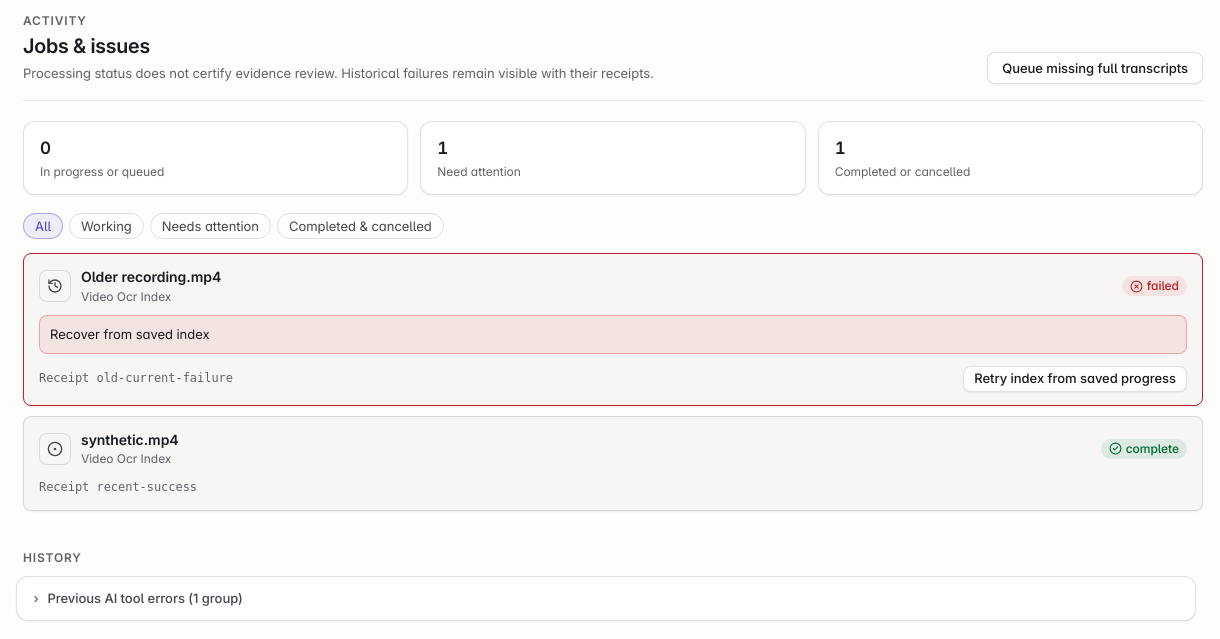
Test: shows a current older failure immediately beside recent completed jobs
Expected: the text "Older recording.mp4" is shown, [81,268,221,285]
Expected: the text "Recover from saved index" is shown, [39,315,1187,354]
Click the button "Completed & cancelled".
click(360, 226)  # box [277,213,444,239]
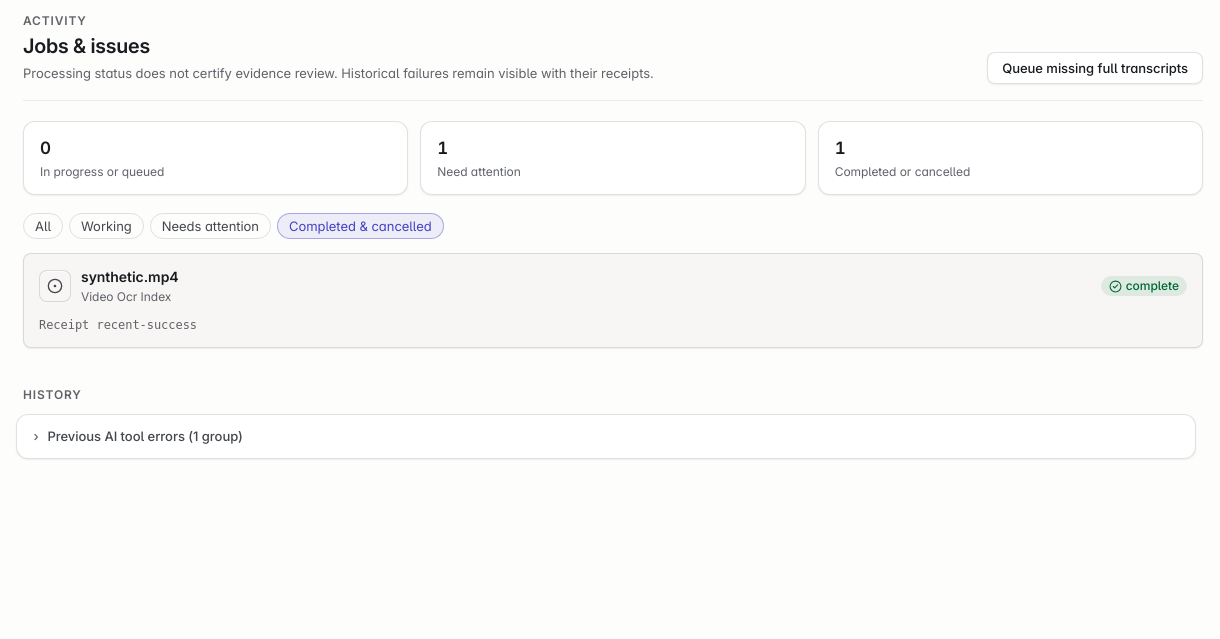
Expected: the text "Receipt recent-success" is shown, [39,317,197,334]
Now the text "Older recording.mp4" is gone
Click the button "Needs attention".
click(210, 226)  # box [150,213,271,239]
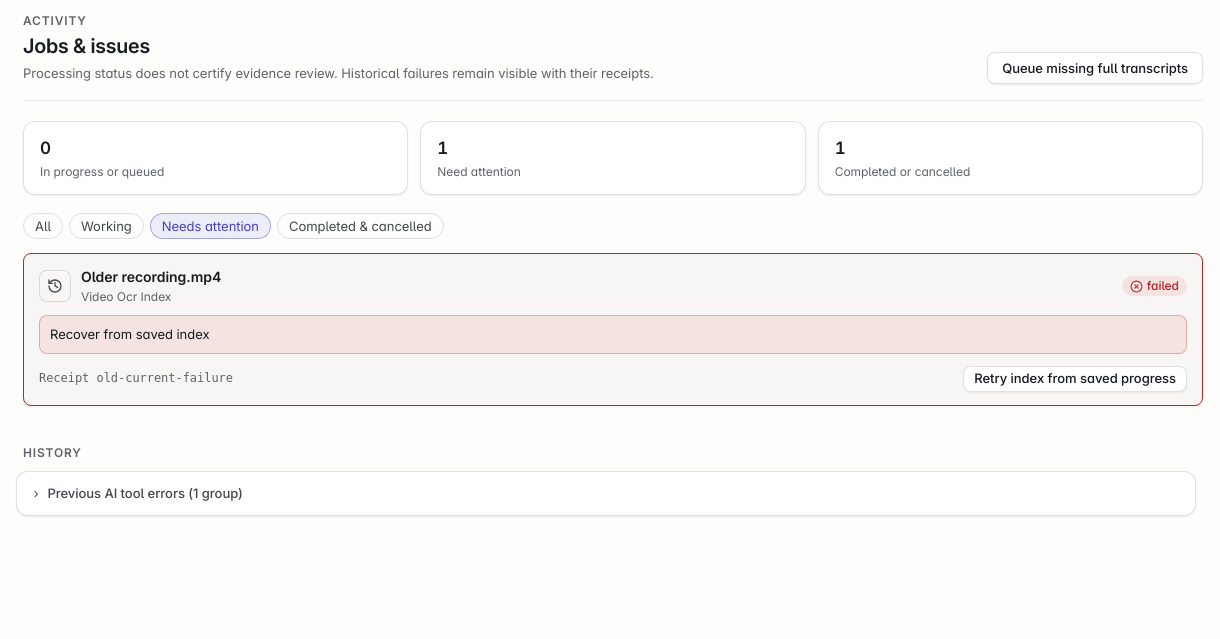
Now the text "Older recording.mp4" is shown, box [81,268,221,285]
Now the text "Receipt recent-success" is gone
